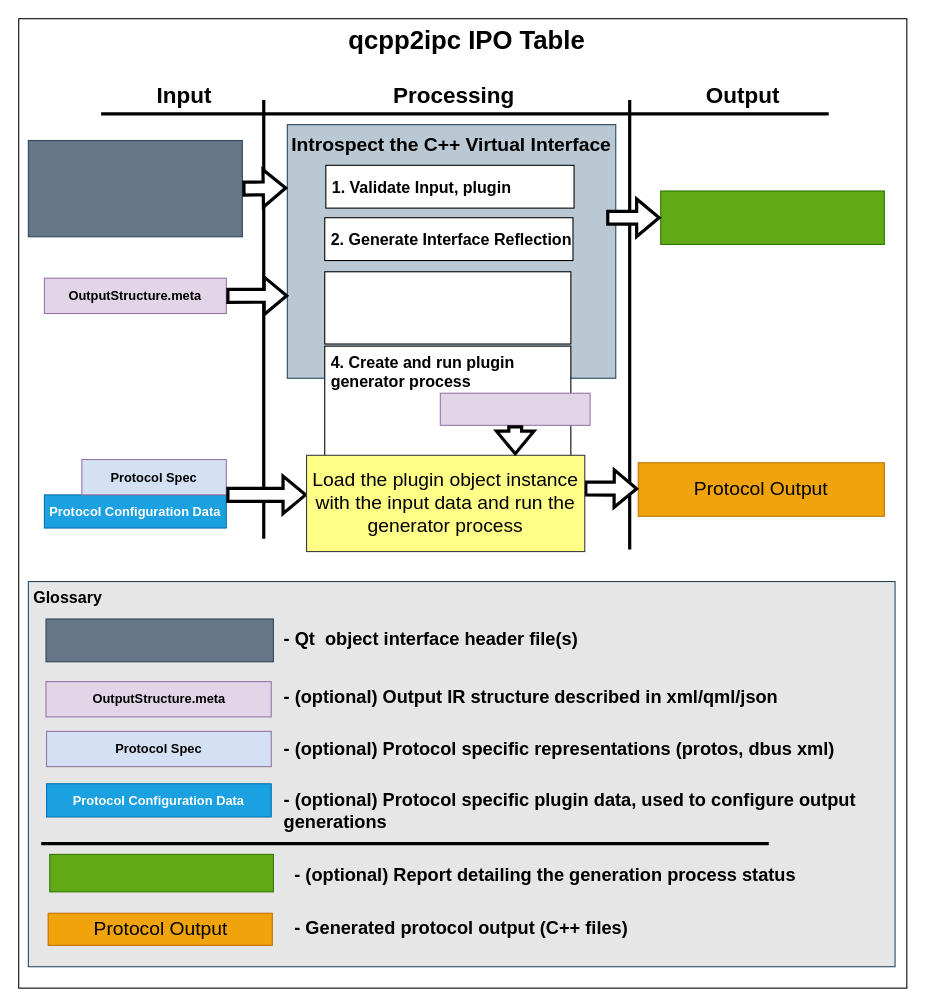
The diagram is 926 pixels wide and 1007 high, and some of its shapes have lost their labels. Here are the shapes that lost their labels. From the top down, the centre of each, then its label:
(x=134, y=188): C++ Virtual Interface Objects (tags and meta data)
(x=772, y=217): Process Status (Validity of Operation)
(x=447, y=307): 3. Generate output structure intermediate representation (json)
(x=514, y=408): Output Structure IR
(x=159, y=640): C++ Virtual Interface Objects
(x=161, y=872): Process Status
